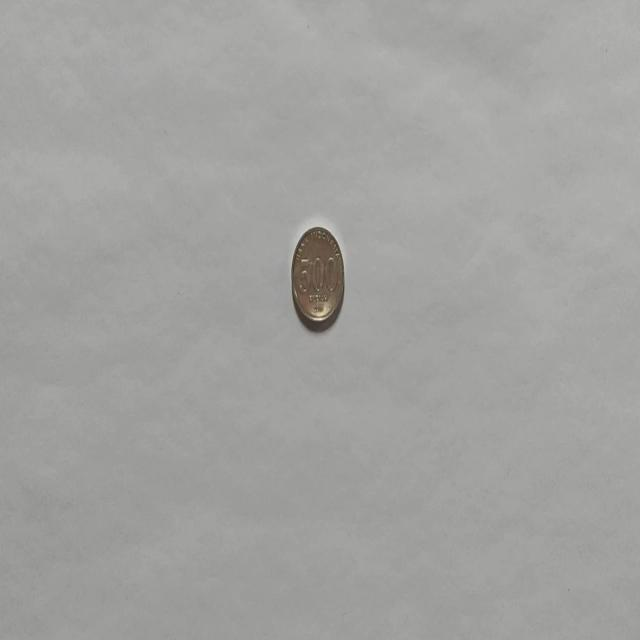lima ratus rupiah: (290, 224, 345, 330)
